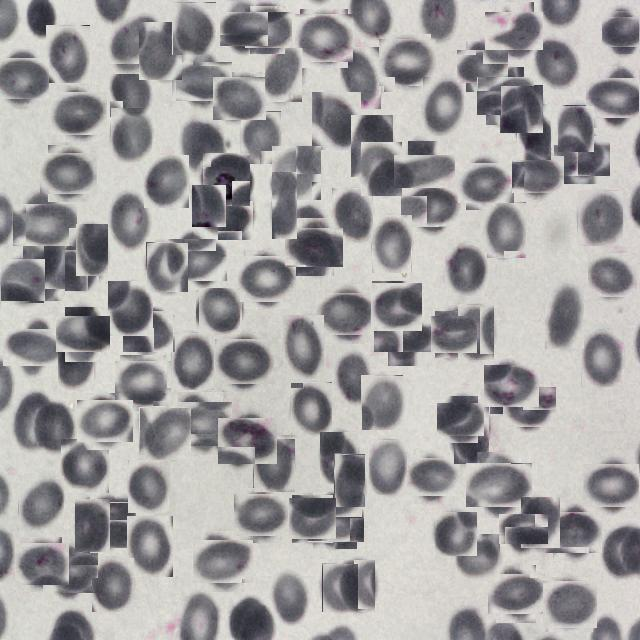red blood cell: (472, 457, 527, 513), (174, 396, 228, 451), (220, 414, 274, 468), (18, 199, 72, 252), (312, 92, 361, 150), (298, 12, 350, 66), (127, 516, 173, 577), (241, 253, 293, 306), (381, 37, 434, 89), (139, 407, 191, 460), (271, 145, 321, 200), (218, 336, 270, 388), (196, 536, 248, 588), (320, 288, 372, 339), (283, 315, 324, 379), (530, 34, 576, 91), (578, 190, 624, 247), (351, 115, 393, 177), (544, 579, 595, 630), (406, 180, 456, 232), (61, 439, 109, 493), (545, 283, 584, 349), (109, 191, 151, 252), (46, 26, 90, 84), (31, 398, 75, 456), (588, 460, 638, 511), (592, 71, 640, 124), (340, 47, 381, 109), (110, 15, 164, 62), (422, 76, 464, 136), (118, 358, 168, 408), (54, 88, 104, 138), (549, 508, 599, 558), (80, 396, 130, 446), (172, 235, 222, 285), (177, 56, 227, 106), (9, 322, 59, 372), (371, 282, 421, 332), (310, 496, 360, 546), (171, 332, 214, 390), (139, 22, 182, 80), (18, 476, 64, 530), (108, 281, 153, 336), (581, 330, 624, 387), (44, 149, 94, 198), (486, 362, 536, 411), (253, 434, 295, 492), (144, 156, 189, 210), (371, 214, 412, 273), (22, 245, 65, 301), (290, 222, 338, 272), (484, 202, 526, 258), (216, 74, 264, 123), (237, 491, 285, 540), (558, 132, 607, 180), (18, 540, 66, 589), (172, 2, 216, 55), (109, 63, 152, 117), (290, 382, 332, 437), (110, 107, 152, 162), (361, 375, 403, 430), (492, 570, 540, 618), (46, 549, 94, 597), (462, 158, 510, 206), (381, 311, 429, 359), (481, 72, 529, 120), (92, 558, 134, 612), (491, 7, 538, 55), (332, 188, 373, 243), (0, 53, 45, 103), (368, 439, 408, 495), (128, 460, 170, 513), (445, 243, 487, 296), (15, 394, 54, 451), (361, 142, 402, 196), (588, 252, 636, 298), (402, 147, 448, 195), (240, 111, 281, 164), (86, 497, 132, 544), (271, 569, 309, 625), (126, 308, 172, 354), (410, 454, 456, 500), (506, 384, 552, 430), (60, 312, 106, 358), (146, 242, 188, 292), (59, 332, 95, 390), (457, 304, 494, 360), (456, 534, 500, 581), (336, 559, 375, 612), (500, 85, 543, 133), (182, 122, 224, 171), (266, 48, 304, 102), (290, 496, 334, 542), (64, 234, 99, 291), (454, 407, 489, 464), (521, 497, 560, 548), (336, 351, 372, 406), (320, 432, 358, 484), (197, 289, 241, 333), (516, 152, 560, 196), (517, 104, 551, 160), (1, 259, 45, 302), (75, 499, 110, 552), (435, 512, 477, 556), (462, 45, 504, 88), (247, 9, 289, 52), (223, 8, 265, 51), (432, 314, 474, 356), (322, 563, 358, 612), (557, 105, 594, 152), (334, 453, 365, 508), (272, 172, 297, 239), (76, 224, 108, 276), (441, 400, 482, 440), (503, 509, 543, 549), (217, 202, 255, 240), (192, 185, 226, 227), (604, 14, 640, 50)
trophozoite: (202, 154, 252, 204)
